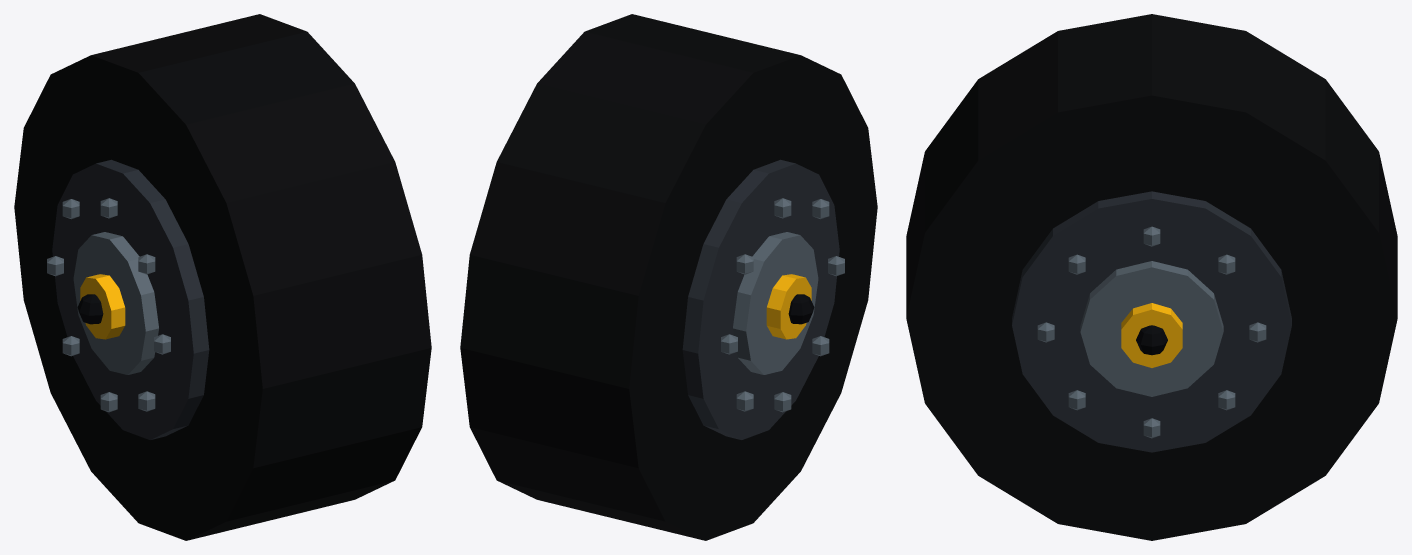
Rendered from Apex_Formula_Wheel_Assembly.obj.
3 renders of one model, left to right at view 1: azimuth 30°, elevation 25°; view 2: azimuth 150°, elevation 25°; view 3: azimuth 270°, elevation 25°, orthographic.
Visible parts, largest first — view 1: TireRubber, WheelGunmetal, Metal, Yellow, Black; view 2: TireRubber, WheelGunmetal, Metal, Yellow, Black; view 3: TireRubber, WheelGunmetal, Metal, Yellow, Black.
Boxes of the visible parts, left/top/right/bottom form: TireRubber: left=14, top=14, right=431, bottom=540; WheelGunmetal: left=52, top=159, right=209, bottom=439; Metal: left=47, top=198, right=170, bottom=412; Yellow: left=80, top=274, right=125, bottom=339; Black: left=77, top=294, right=103, bottom=324; TireRubber: left=460, top=14, right=877, bottom=540; WheelGunmetal: left=682, top=159, right=839, bottom=439; Metal: left=721, top=198, right=844, bottom=412; Yellow: left=766, top=274, right=811, bottom=339; Black: left=788, top=294, right=814, bottom=324; TireRubber: left=906, top=14, right=1397, bottom=540; WheelGunmetal: left=1012, top=191, right=1291, bottom=452; Metal: left=1037, top=226, right=1266, bottom=438; Yellow: left=1121, top=303, right=1182, bottom=367; Black: left=1136, top=325, right=1167, bottom=355.
Bounding box in the file's own units: 0.528 × 0.79 × 0.79.
